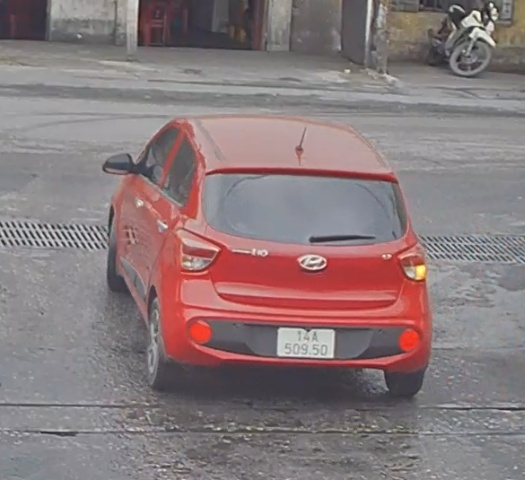vehicle plate: (273, 319, 343, 356)
